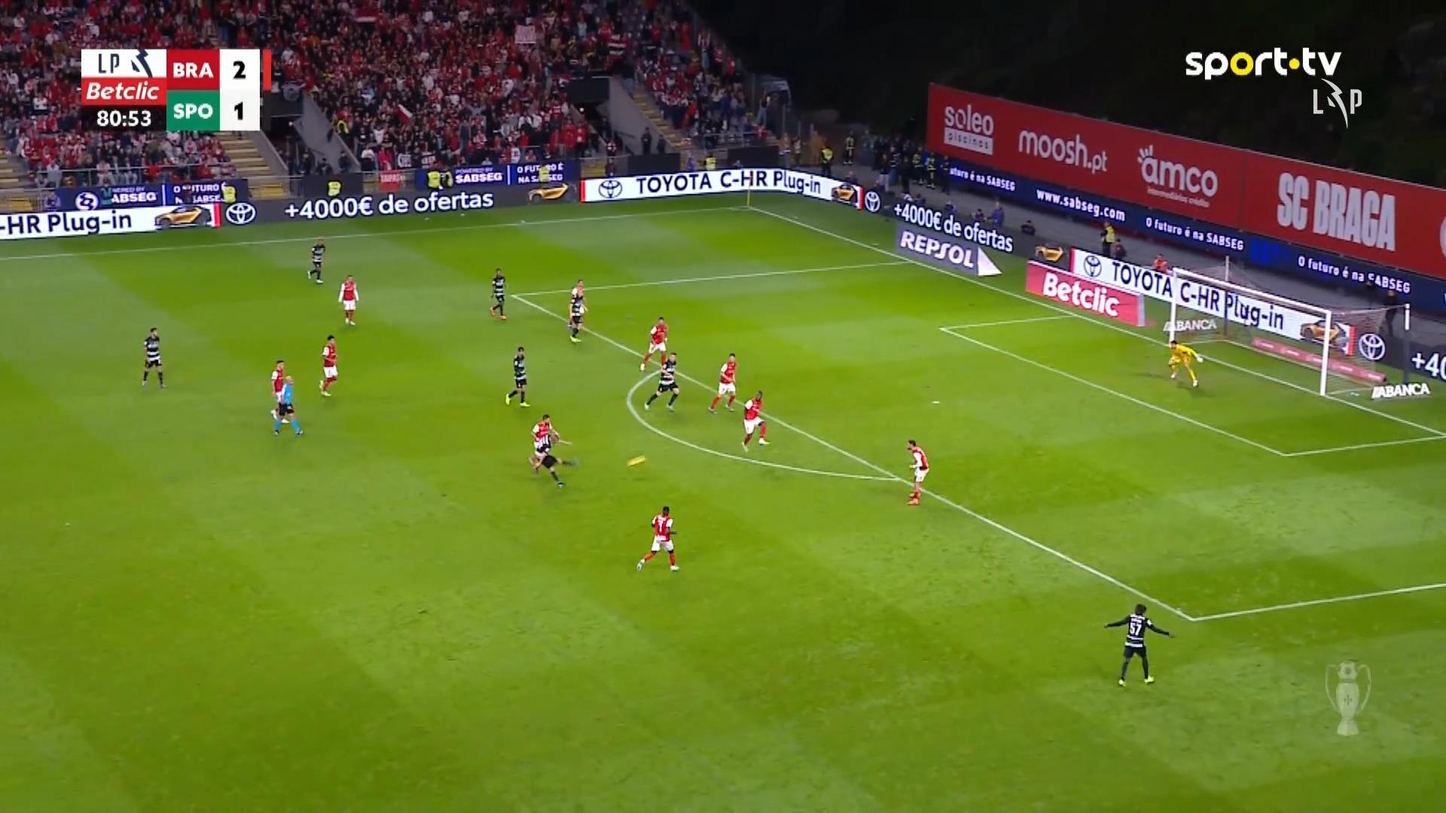ball: (627, 454, 646, 468)
goalkeeper: (1166, 337, 1204, 387)
player: (1103, 602, 1173, 687), (635, 504, 680, 572), (534, 435, 580, 488), (642, 351, 680, 411), (708, 352, 738, 414), (740, 389, 769, 451), (639, 315, 669, 371), (140, 326, 166, 388), (530, 414, 561, 466), (905, 438, 929, 504), (504, 346, 529, 406), (566, 279, 586, 343), (318, 334, 338, 396), (269, 359, 288, 423), (337, 274, 358, 326), (488, 267, 507, 321), (307, 236, 325, 284)
referee: (271, 374, 303, 436)
